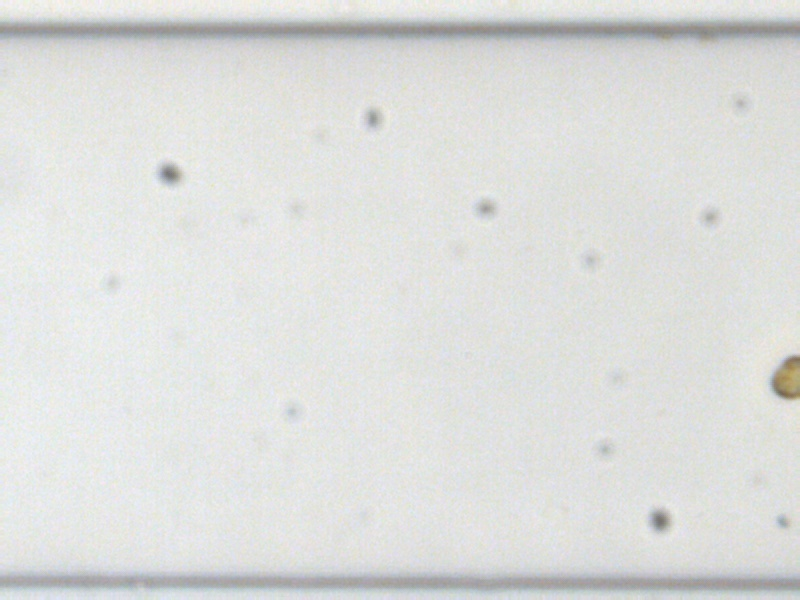Effrenium: (770, 351, 799, 402)
